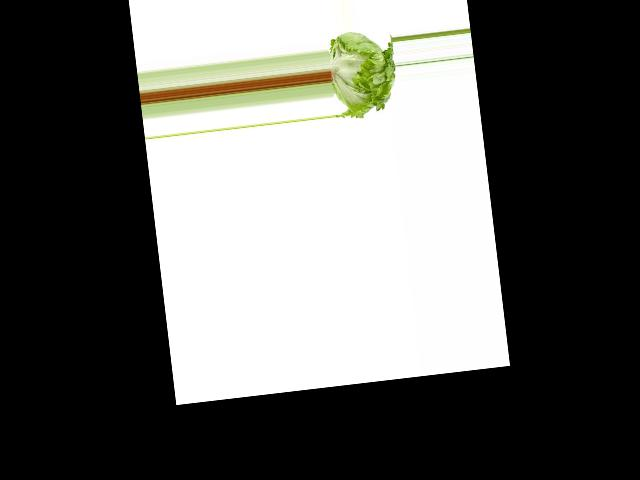lettuce: (325, 25, 400, 124)
